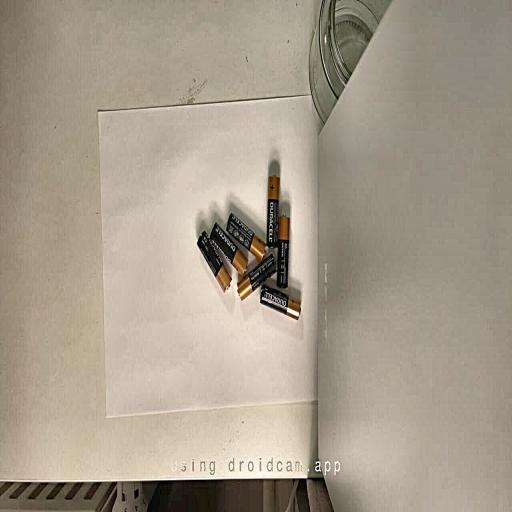DuracellAA: (197, 231, 231, 292), (210, 223, 248, 275), (227, 213, 266, 260), (238, 253, 276, 300), (260, 284, 300, 319), (266, 175, 280, 247), (277, 215, 289, 287)
